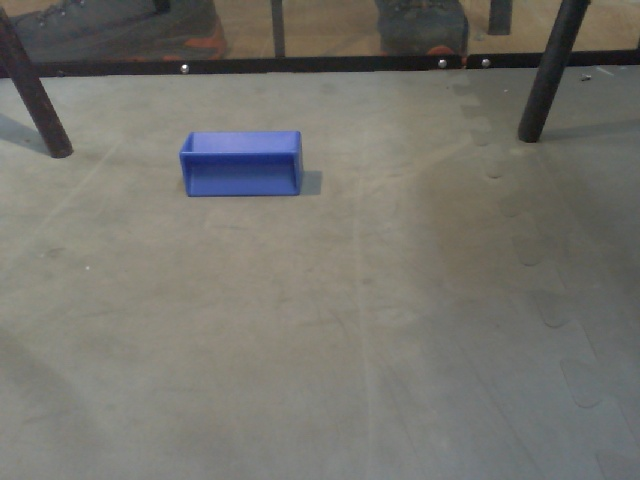BlueSample: (178, 128, 305, 202)
